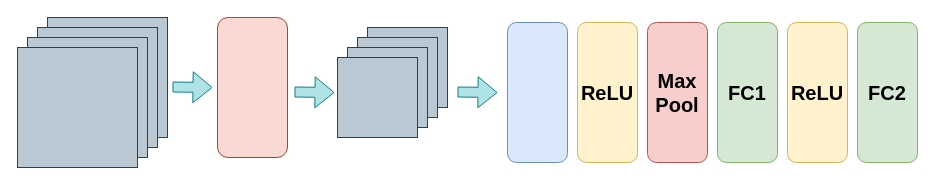
Image size: 935x185. Some labels were removed from this diagram. Each missing label, with the centre of its shape:
"Conv" belongs at (x=537, y=92).
"Resize" belongs at (x=252, y=87).
